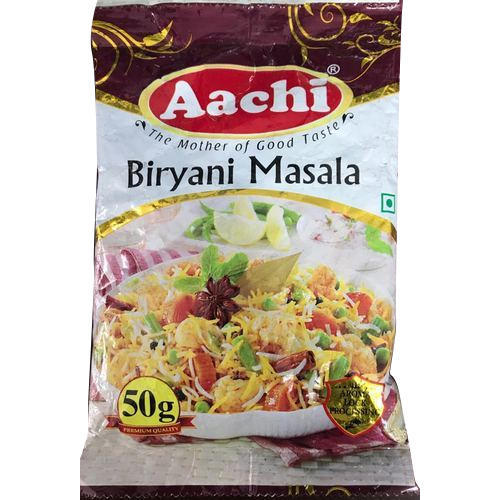VEG: (380, 192, 397, 215)
